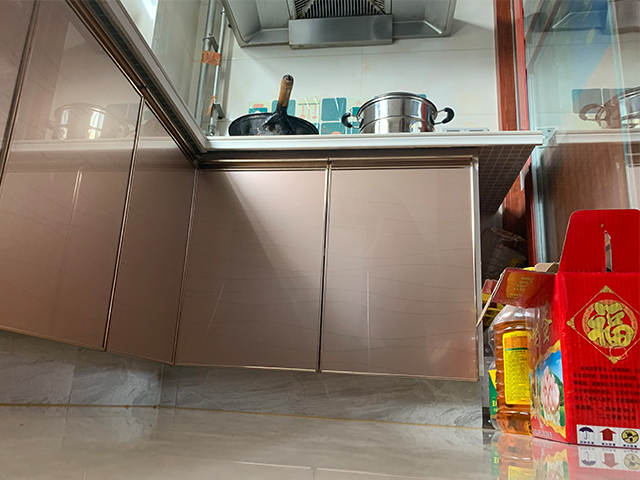cabinet: (189, 126, 493, 430), (1, 36, 199, 417)
